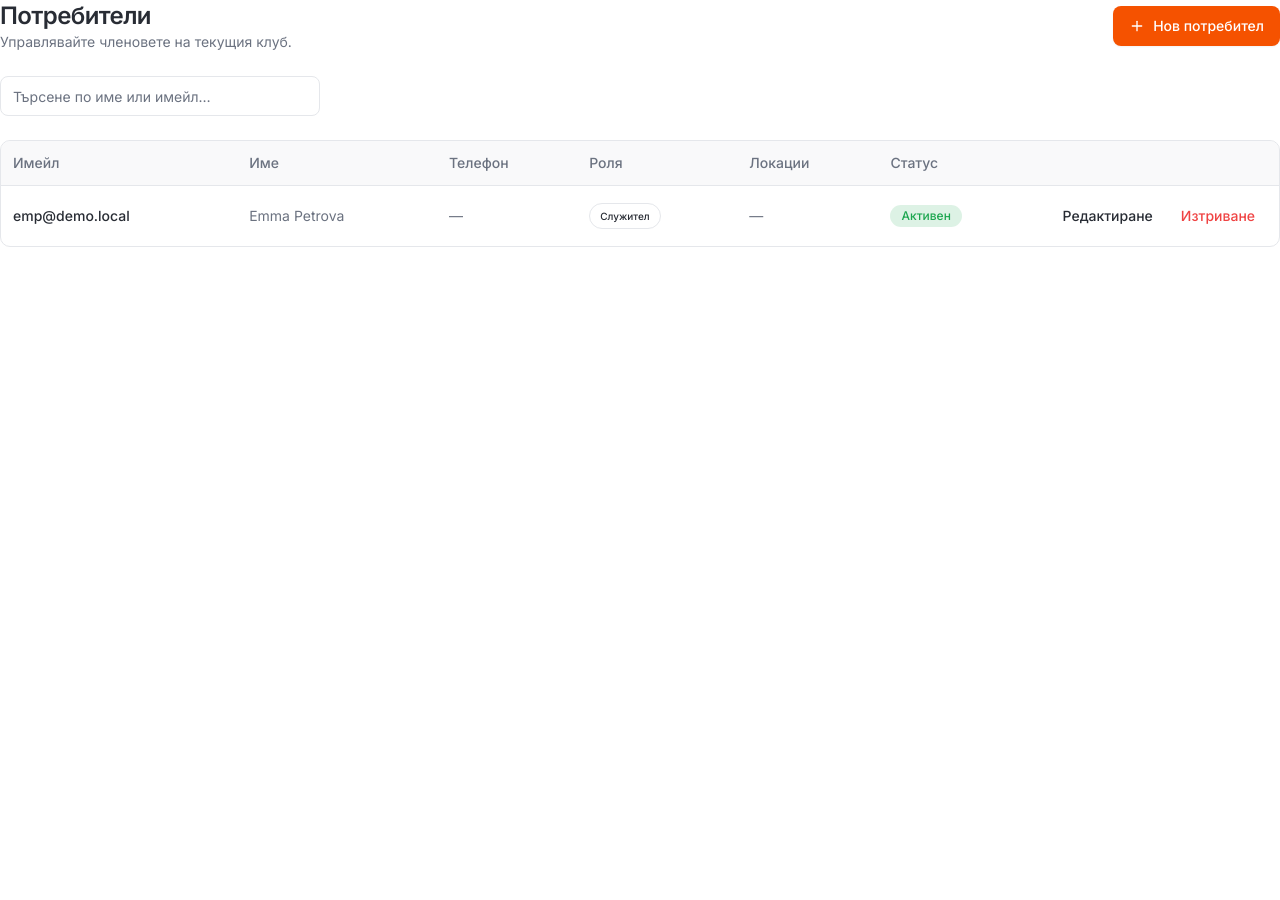
Test: Users list — per-actor removal dialog copy › confirms a completed removal with a toast naming the account
Click the button "Изтриване".
click(1218, 216)  # box [1169, 198, 1267, 234]
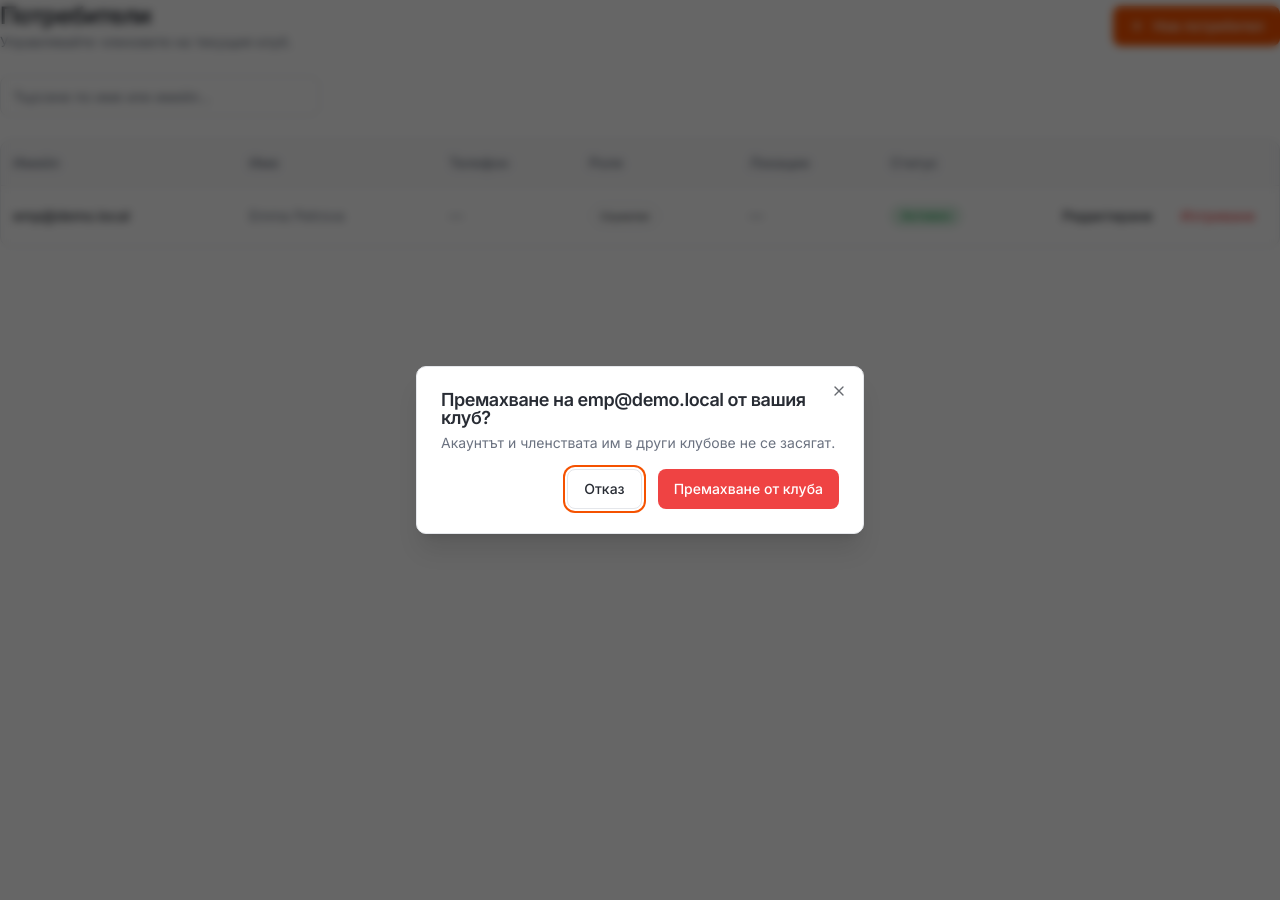
Click the button "Премахване от клуба".
click(748, 489)  # box [658, 469, 839, 509]
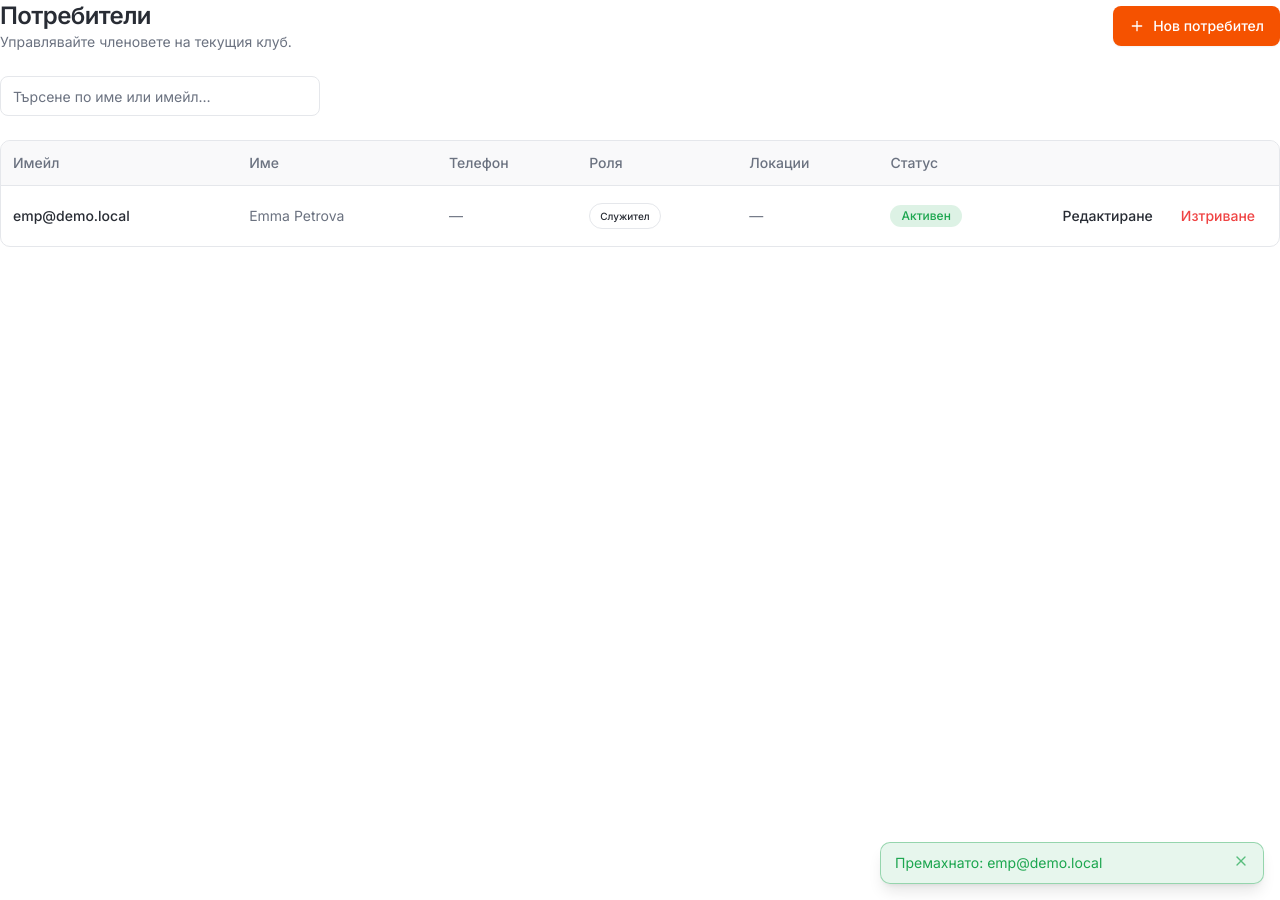
Expected: the text "Премахнато: emp@demo.local" is shown, [895, 854, 1102, 871]
